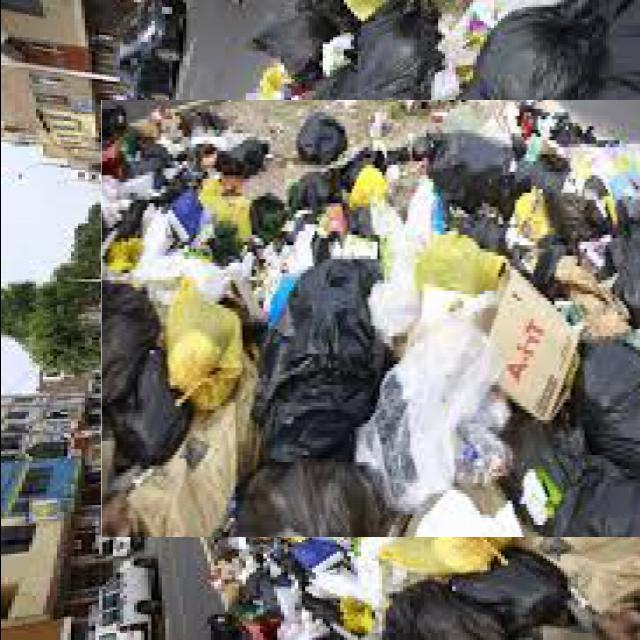Trashbag: (237, 263, 381, 474), (460, 0, 608, 105), (335, 0, 447, 105), (497, 414, 591, 534), (84, 275, 159, 403), (578, 344, 640, 466), (425, 130, 523, 207), (247, 0, 325, 82), (120, 378, 190, 463), (285, 109, 359, 168), (211, 135, 274, 178)
